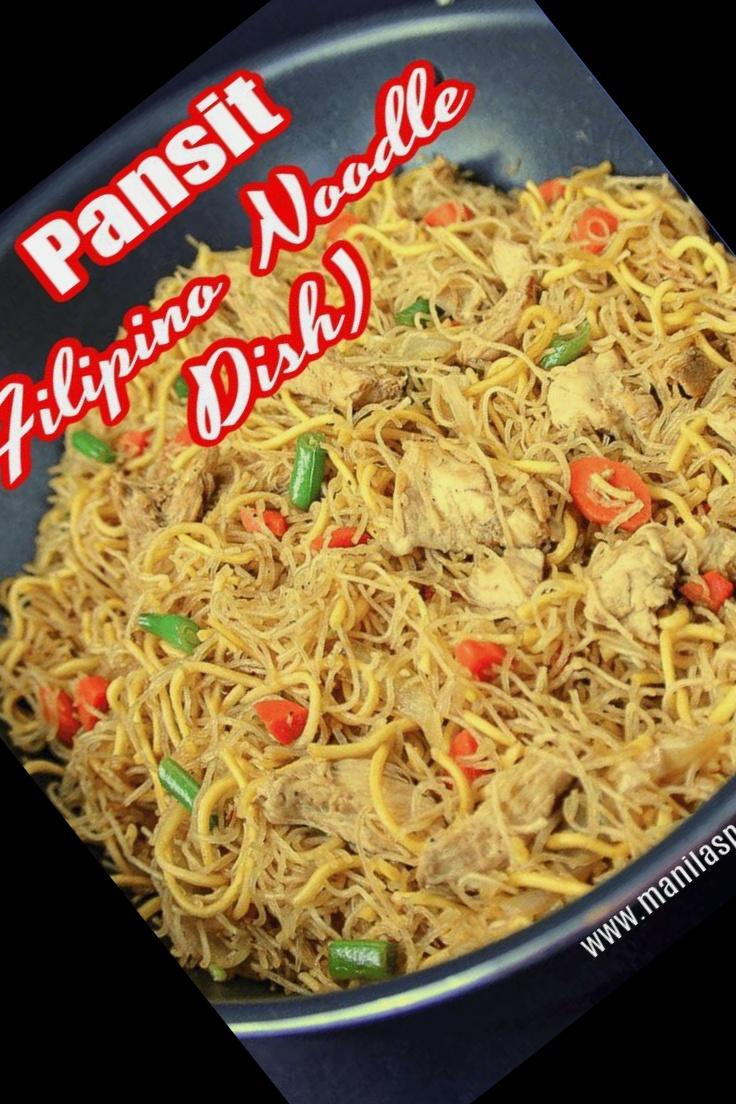pancit bihon: (0, 183, 735, 1010)
